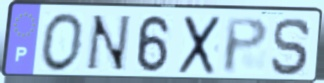6: (135, 13, 173, 76)
N: (82, 13, 133, 74)
O: (39, 11, 86, 75)
P: (222, 16, 271, 77)
S: (269, 16, 314, 78)
X: (176, 14, 224, 77)
